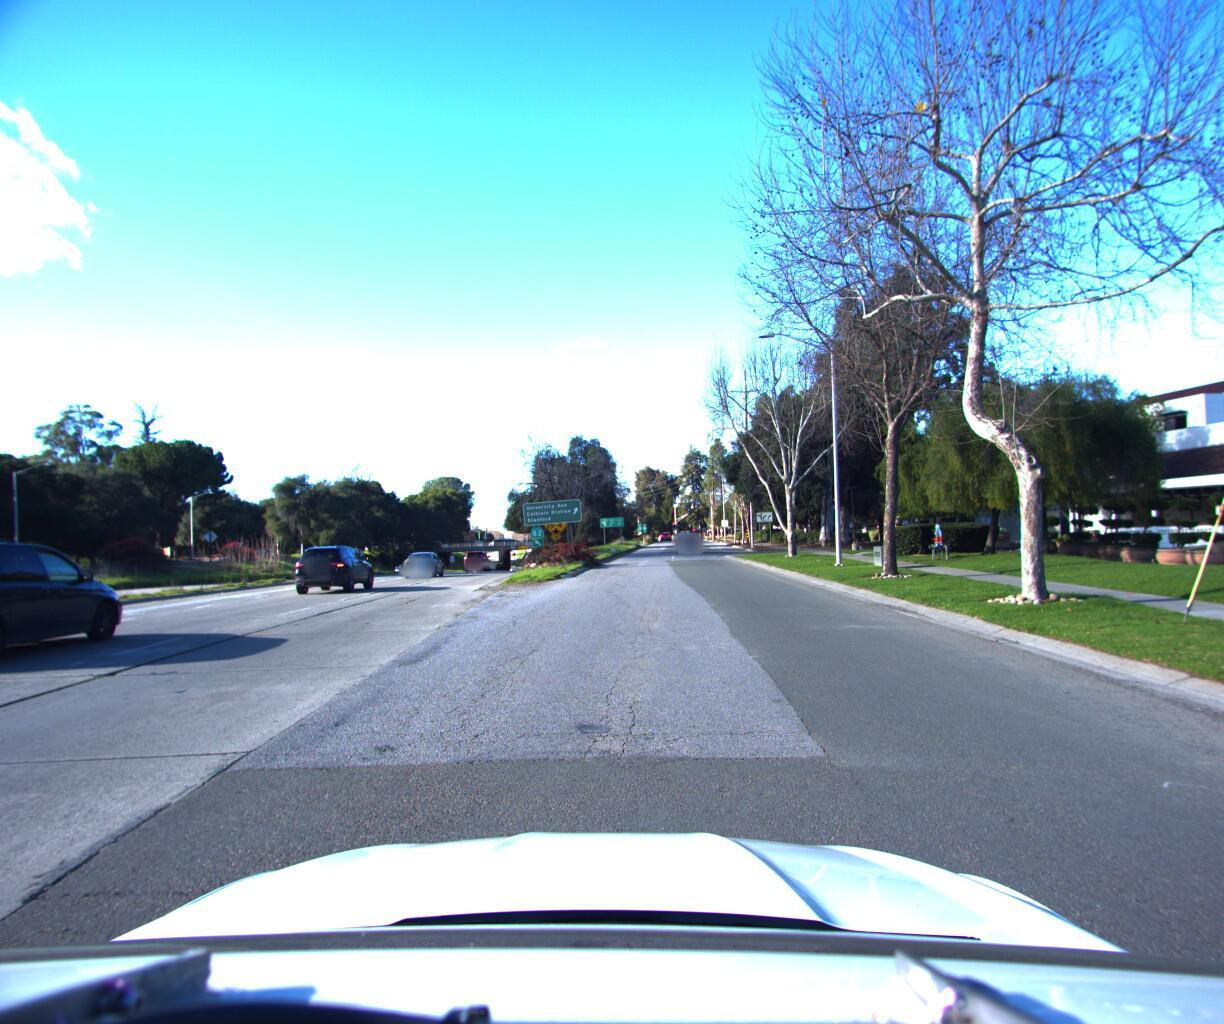car: (0, 537, 145, 687), (289, 543, 379, 596), (405, 547, 448, 578), (463, 543, 491, 566), (671, 528, 699, 551)
